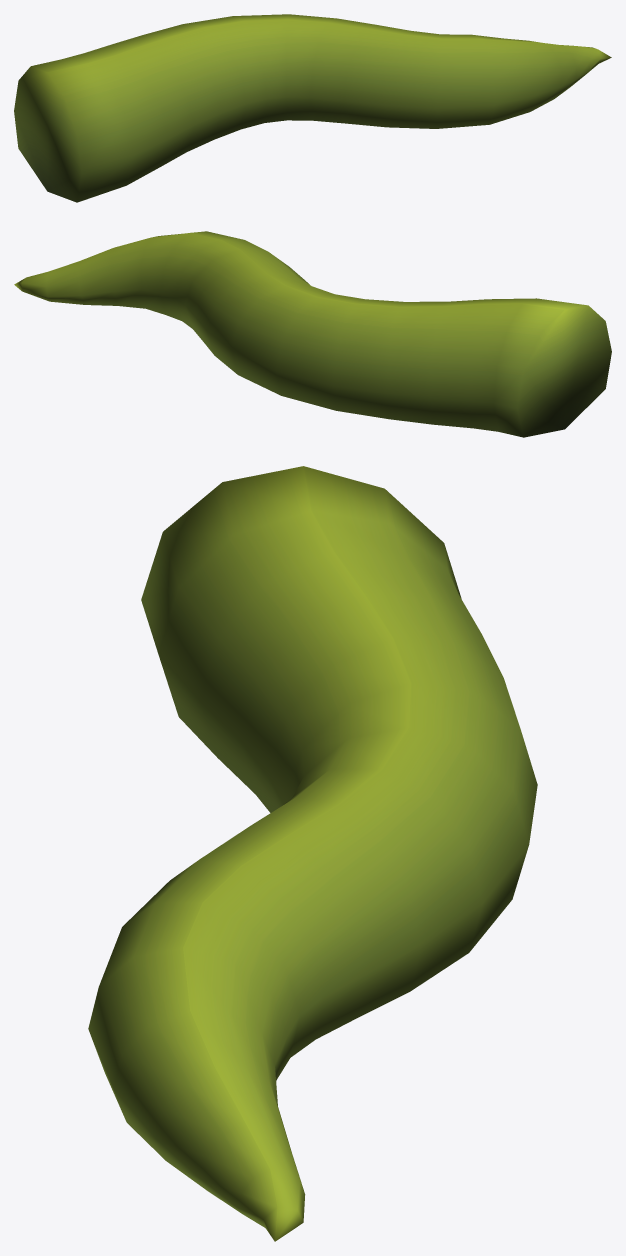
File: elf_ivy.fbx
3 renders of one model, top to bottom at view 1: azimuth 30°, elevation 25°; view 2: azimuth 150°, elevation 25°; view 3: azimuth 270°, elevation 25°, orthographic. The views are drawn at different scales.
Parts seen in each view (by area): view 1: elf_ivy; view 2: elf_ivy; view 3: elf_ivy.
Part boxes in pixels (x1=…): elf_ivy: x1=14, y1=14, x2=611, y2=202; elf_ivy: x1=14, y1=231, x2=611, y2=437; elf_ivy: x1=88, y1=466, x2=537, y2=1241.
Size of the model in its own units: 401 by 81.53 by 139.
